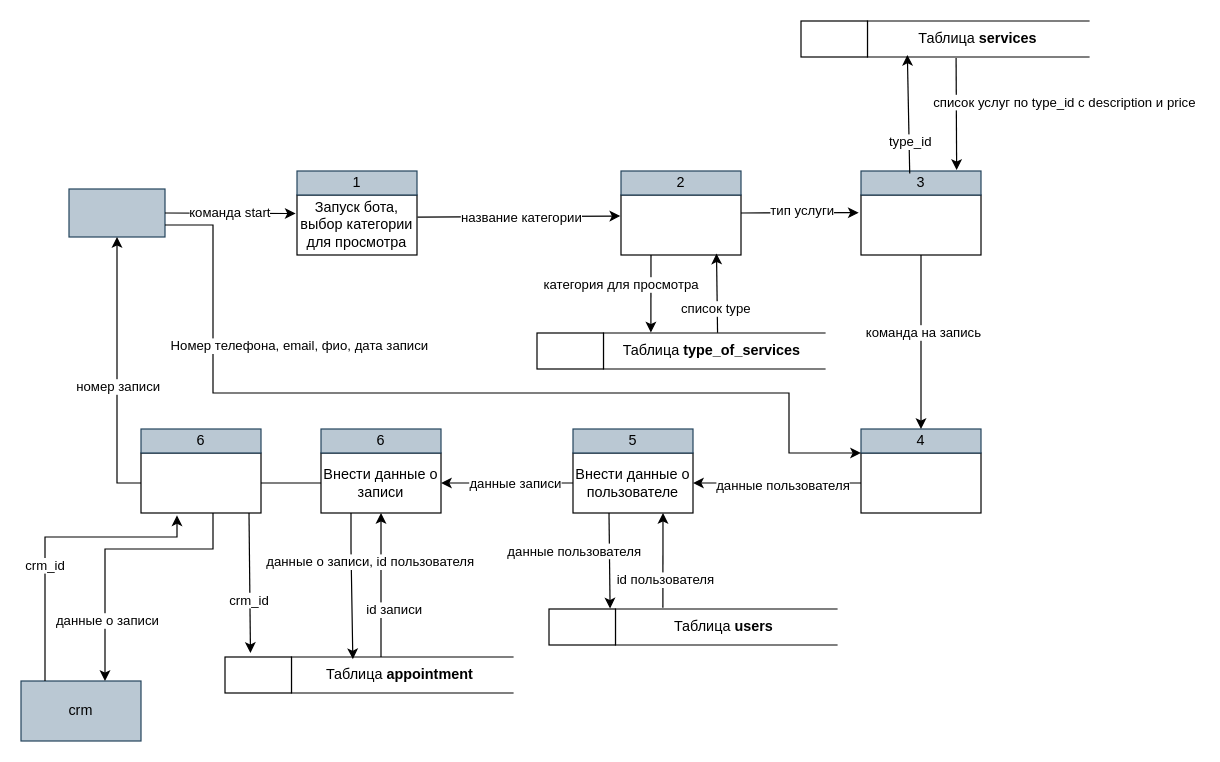
Some shapes in this 1220 by 762 pixel diagram are drawn without their labels. Each missing label, with the centre of its shape:
Внести данные о записи в crm: point 200,482
Запросить информацию для записи: point 920,482
Отобразить все услуги по выбранному типу: point 920,224
Отобразить меню с типами услуг: point 680,224
Пользователь: point 116,212
